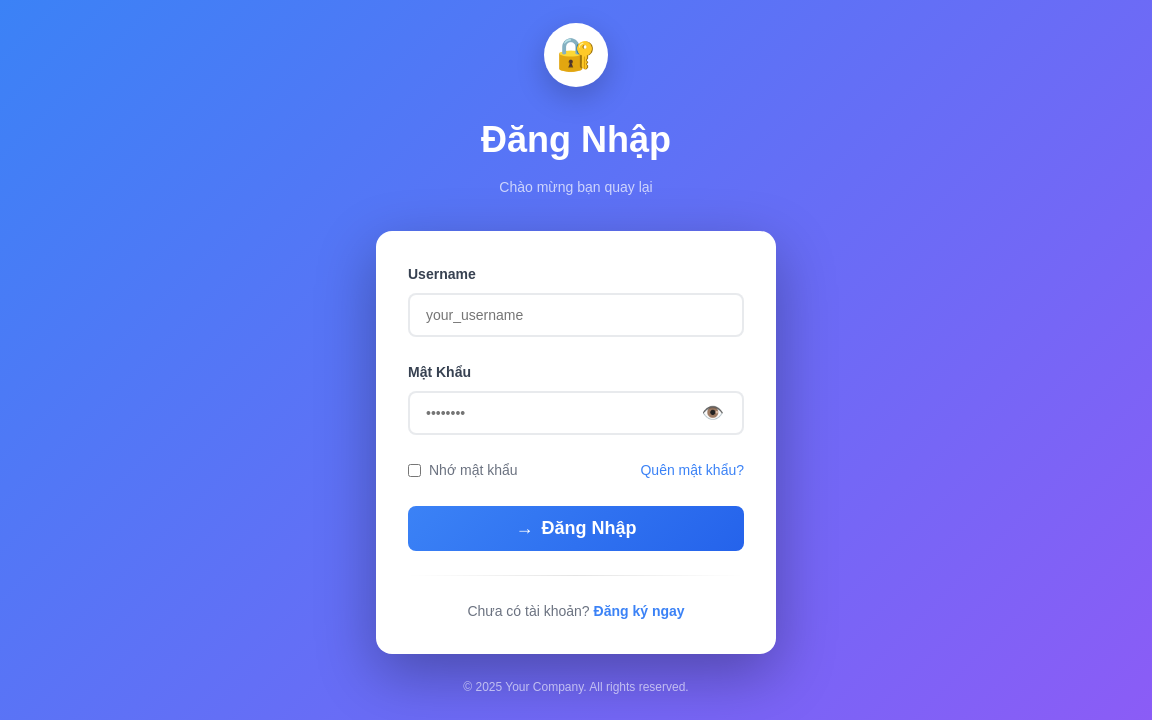
Test case: Login - Integration Testing › Test 3: Error Handling và Success Messages › nên hiển thị error khi API trả về error
Step 1. Type "testuser" into the field with placeholder "your_username" → (576, 315), box [408,293,744,337]
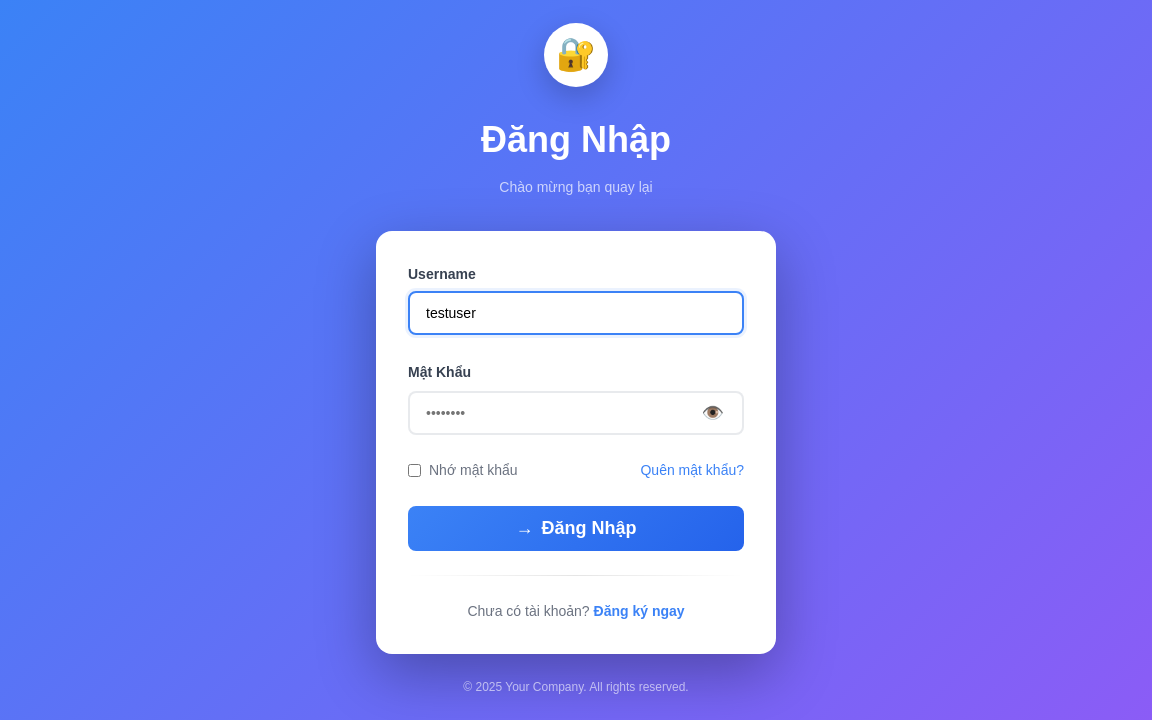
Step 2. Type "wrongpassword1" into the password field with placeholder "••••••••" → (576, 413), box [408,391,744,435]
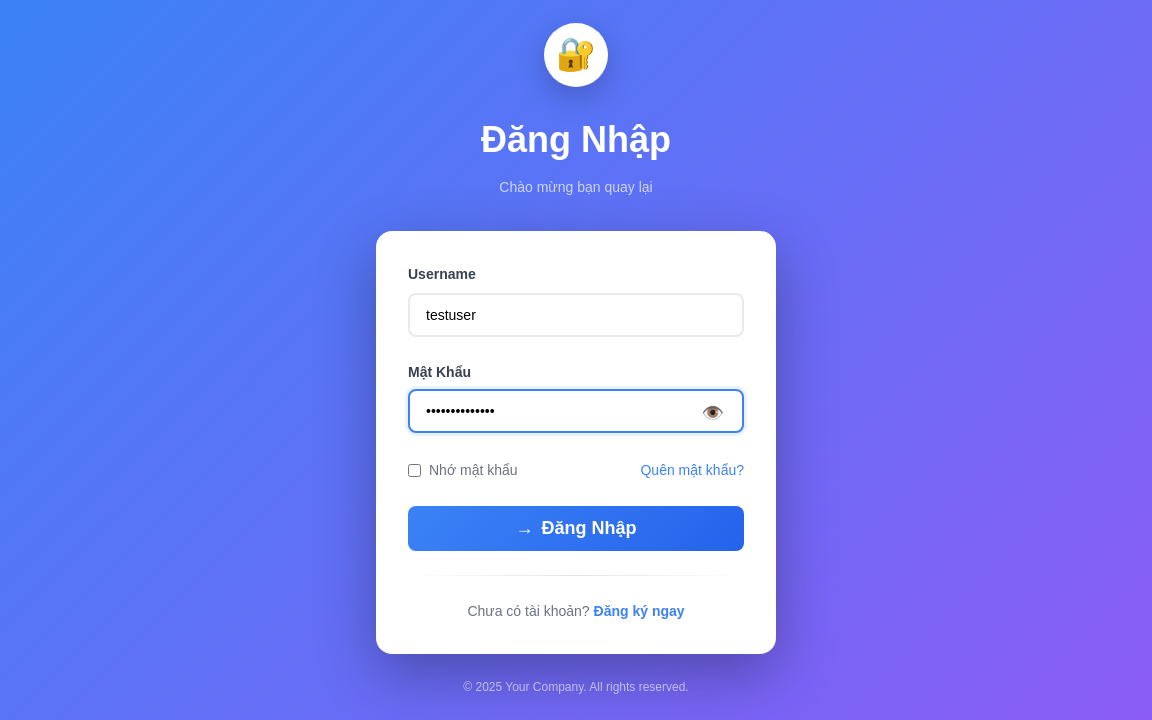
Step 3. Click the button "→ Đăng Nhập" → (576, 528), box [408,506,744,551]
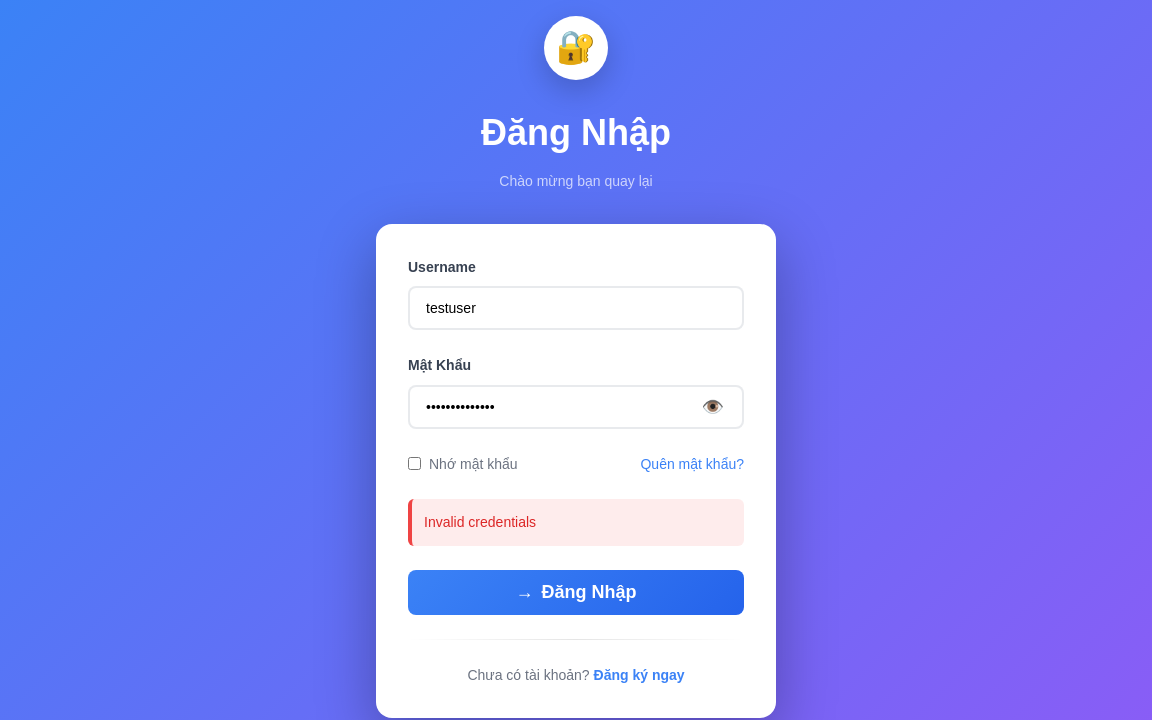
Expected: the text "Invalid credentials" is shown, [408,499,744,546]
